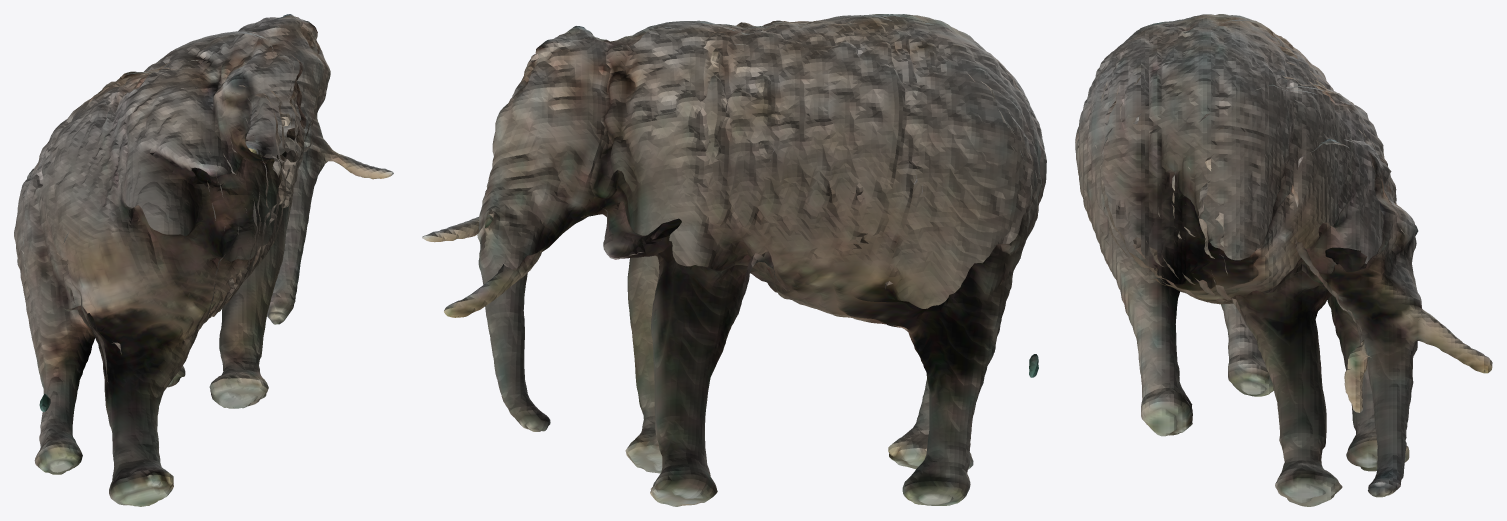
The picture shows the model from 3 angles, left to right: view 1: azimuth 30°, elevation 25°; view 2: azimuth 150°, elevation 25°; view 3: azimuth 270°, elevation 25°; orthographic projection. The views are drawn at different scales.
Parts seen in each view (by area): view 1: geometry_0; view 2: geometry_0; view 3: geometry_0.
Part boxes in pixels (x1,y1,x2,y2): geometry_0: (14, 14, 393, 506); geometry_0: (422, 14, 1046, 506); geometry_0: (1075, 14, 1492, 506).
Size of the model in its own units: 1.6 by 1.35 by 1.23.
